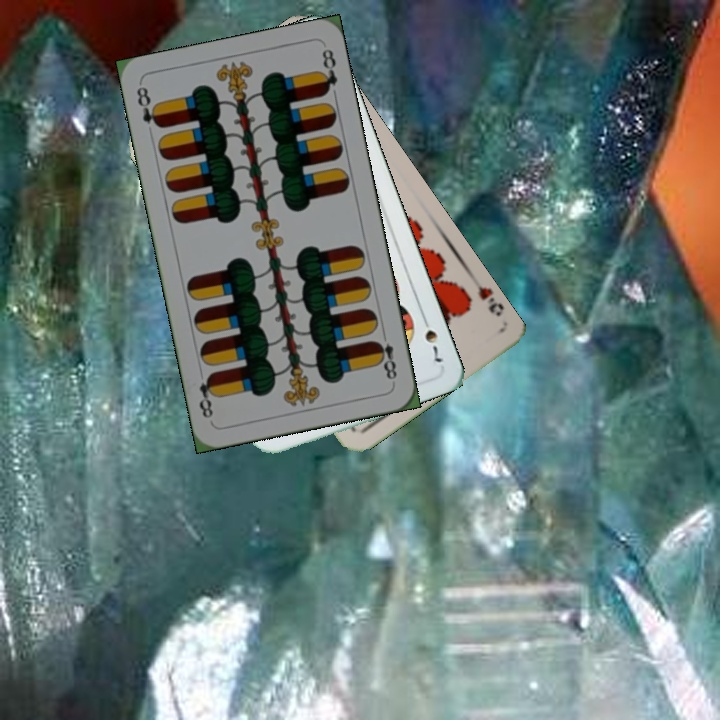E8: (371, 327, 400, 383), (132, 82, 164, 131)
H9: (473, 282, 506, 319)
S7: (418, 310, 445, 365)
